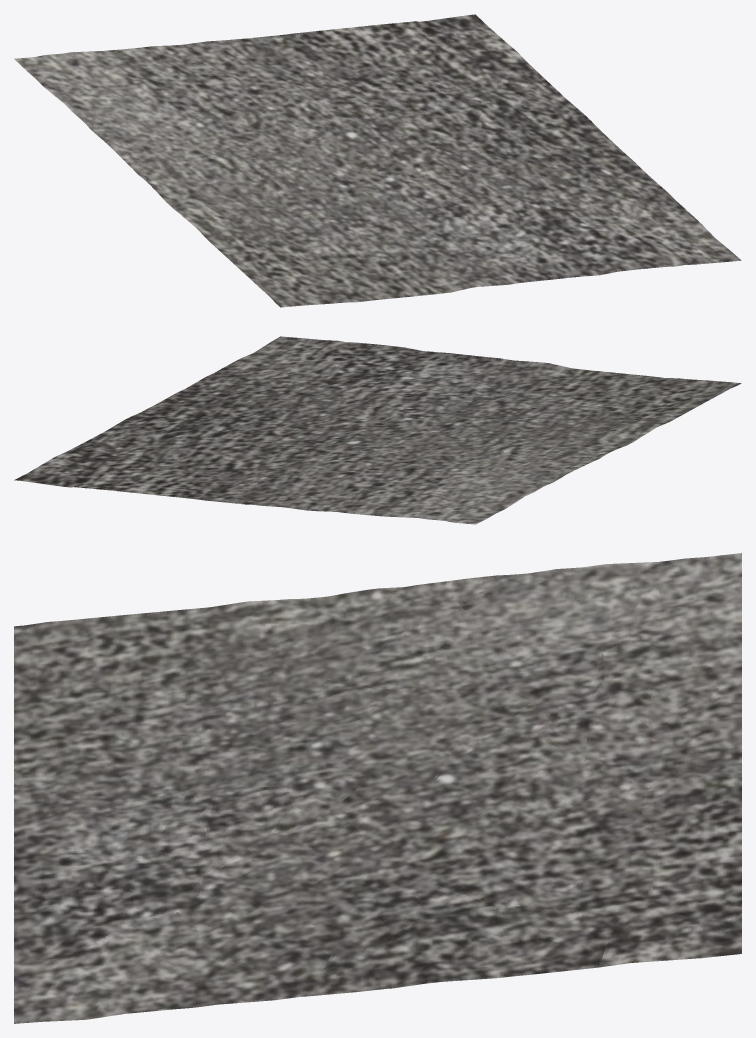
3 views of the same model, one above another, from view 1: azimuth 30°, elevation 25°; view 2: azimuth 150°, elevation 25°; view 3: azimuth 270°, elevation 25° (orthographic). The views are drawn at different scales.
Bounding box in the file's own units: 0.8374 × 0.2072 × 0.8374.
Materials: 2 (2 with a texture image).
